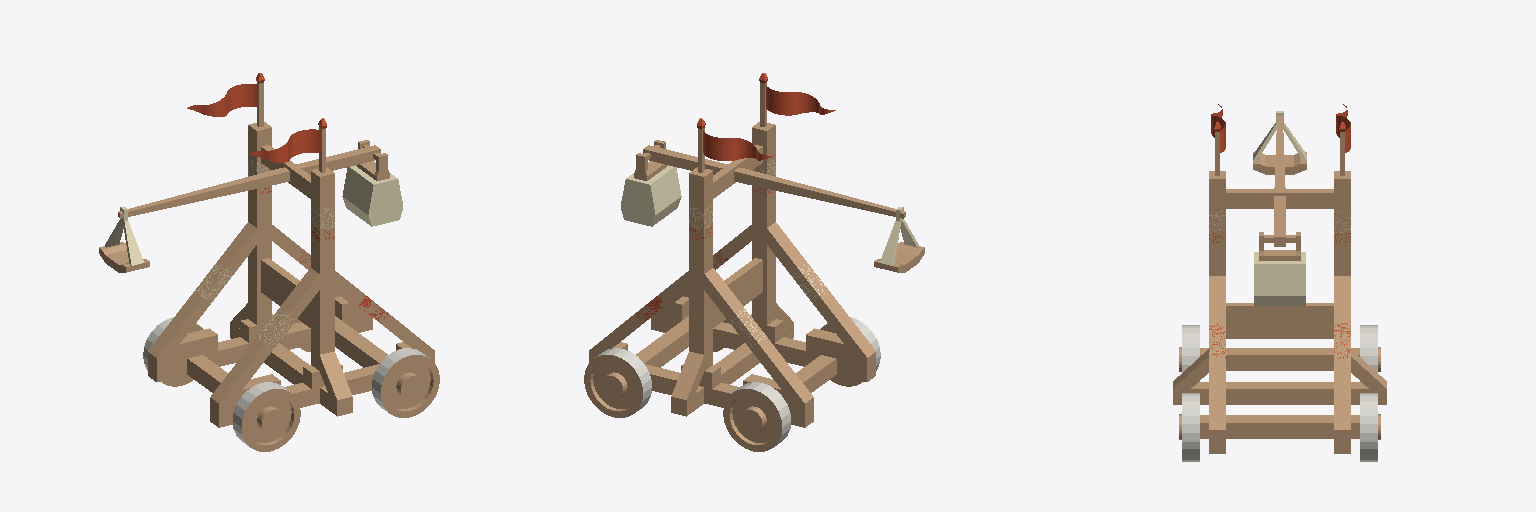
File: siegeTrebuchetRed.obj
3 renders of one model, left to right at view 1: azimuth 30°, elevation 25°; view 2: azimuth 150°, elevation 25°; view 3: azimuth 270°, elevation 25°, orthographic.
Parts seen in each view (by area): view 1: body 9, wheelBackRight 11, wheelFrontRight 14, weight 2, trebuchet 2, catapult 5, flag 26, flag 27, wheelBackLeft 11; view 2: body 9, wheelBackLeft 11, wheelFrontLeft 14, weight 2, trebuchet 2, catapult 5, flag 27, flag 26, wheelBackRight 11; view 3: body 9, weight 2, wheelFrontLeft 14, wheelFrontRight 14, catapult 5, trebuchet 2, wheelBackLeft 11, wheelBackRight 11, flag 27, flag 26.
Boxes of the visible parts, x1,y1,x2,y2 form: body 9: [148, 122, 434, 427]; wheelBackRight 11: [233, 382, 300, 451]; wheelFrontRight 14: [372, 348, 439, 417]; weight 2: [342, 140, 402, 226]; trebuchet 2: [118, 145, 380, 218]; catapult 5: [99, 207, 149, 272]; flag 26: [187, 73, 264, 126]; flag 27: [249, 118, 326, 172]; wheelBackLeft 11: [143, 317, 203, 386]; body 9: [589, 122, 875, 427]; wheelBackLeft 11: [723, 382, 790, 451]; wheelFrontLeft 14: [584, 348, 651, 417]; weight 2: [621, 140, 681, 226]; trebuchet 2: [643, 145, 905, 218]; catapult 5: [874, 207, 924, 272]; flag 27: [759, 73, 835, 126]; flag 26: [697, 118, 774, 172]; wheelBackRight 11: [820, 317, 880, 386]; body 9: [1173, 171, 1386, 453]; weight 2: [1254, 232, 1305, 305]; wheelFrontLeft 14: [1360, 393, 1380, 461]; wheelFrontRight 14: [1179, 393, 1199, 461]; catapult 5: [1253, 111, 1306, 174]; trebuchet 2: [1274, 116, 1285, 246]; wheelBackLeft 11: [1360, 325, 1380, 381]; wheelBackRight 11: [1179, 325, 1199, 381]; flag 27: [1211, 104, 1225, 175]; flag 26: [1336, 104, 1350, 175].
Bounding box in the file's own units: 19.5 × 19.59 × 12.58.